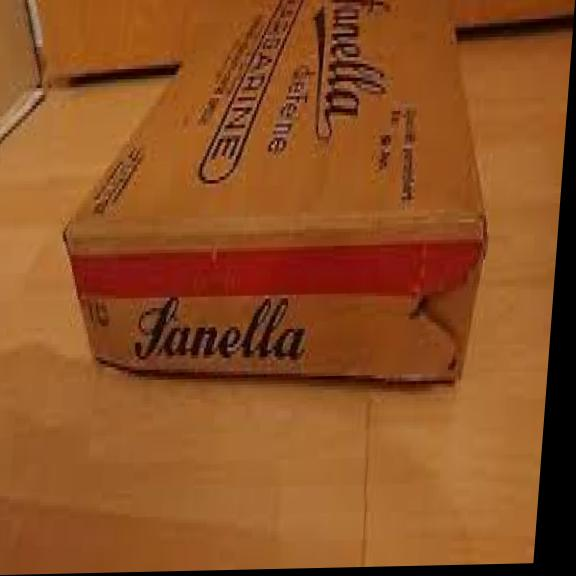Kertas: (67, 0, 486, 381)
